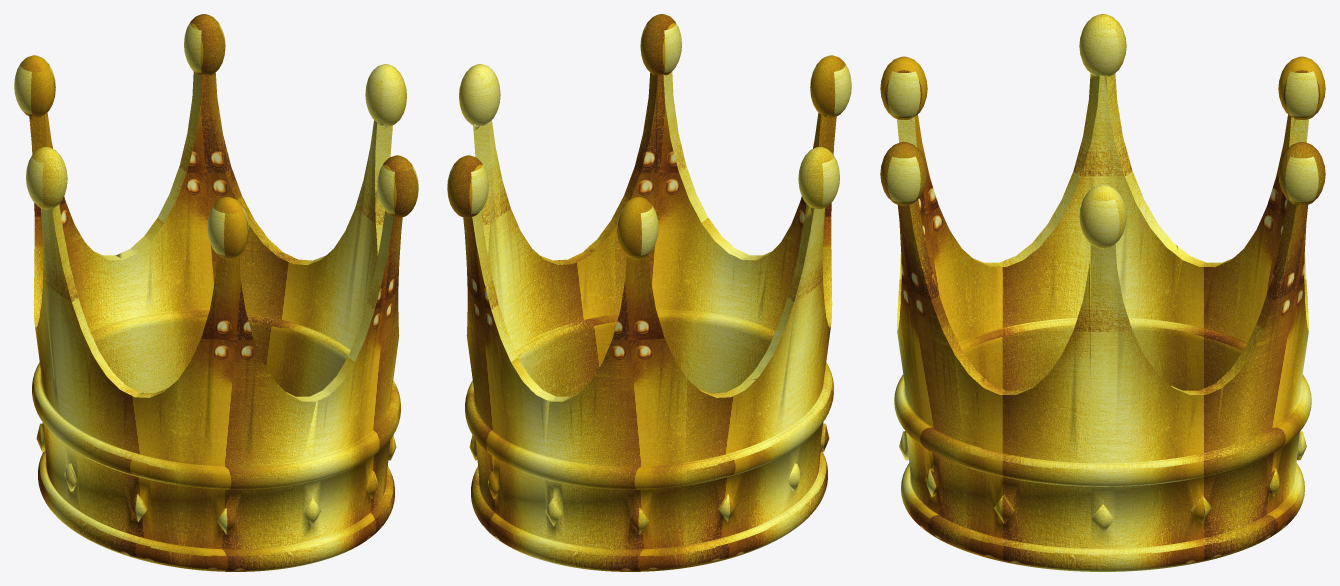
File: crown.obj
3 views of the same model, side by side, from view 1: azimuth 30°, elevation 25°; view 2: azimuth 150°, elevation 25°; view 3: azimuth 270°, elevation 25° (orthographic). The views are drawn at different scales.
Visible parts, largest first — view 1: Crownr; view 2: Crownr; view 3: Crownr.
Boxes of the visible parts, bbox=[...] form: Crownr: bbox=[14, 14, 418, 571]; Crownr: bbox=[447, 14, 851, 571]; Crownr: bbox=[880, 14, 1325, 571].
Size of the model in its own units: 1 by 1 by 1.
